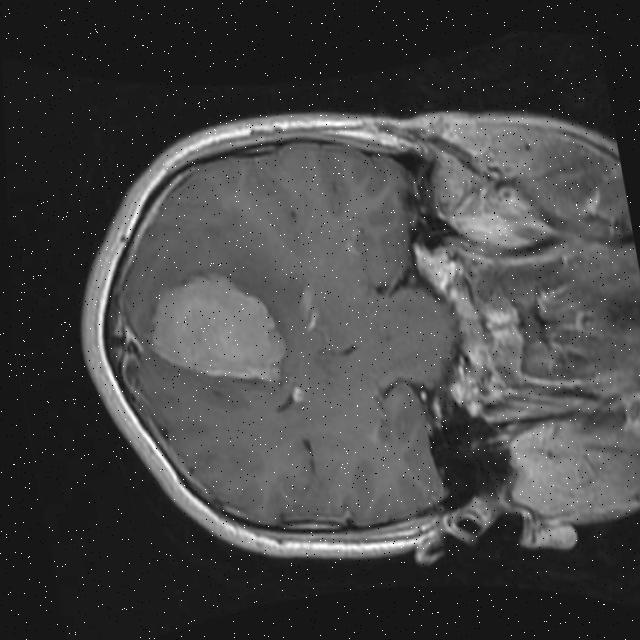Meningioma: (131, 256, 296, 404)
